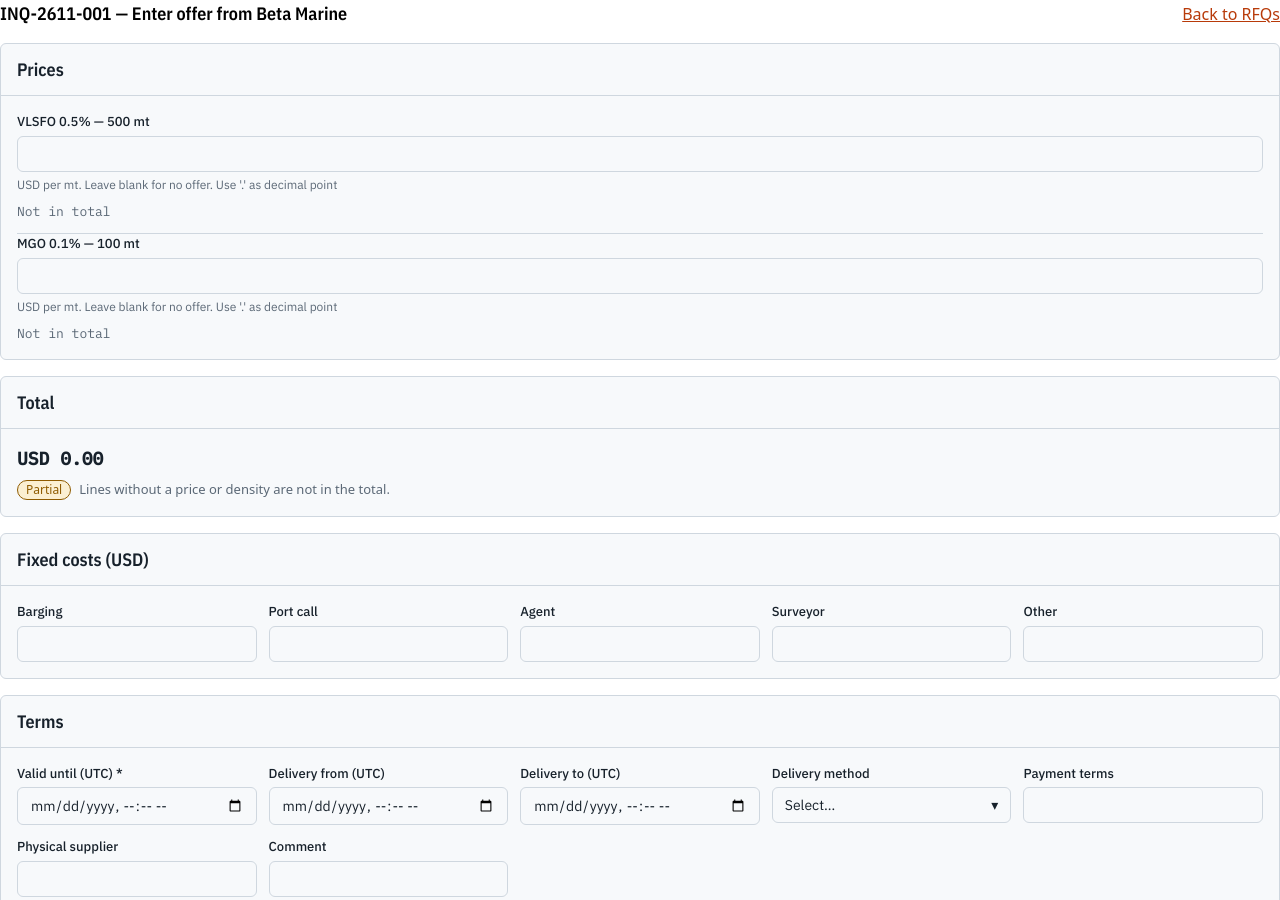
Test case: OfferEntry › [B4-R12] live line costs and total update, with a Partial note until every line is priced
The image size is (1280, 900).
Expected: the text "USD 0.00" is shown, left=17, top=447, right=103, bottom=470
Expected: the text "Partial" is shown, left=17, top=480, right=71, bottom=500
In the field labelled "VLSFO 0.5% — 500 mt": (640, 154) left=17, top=136, right=1263, bottom=172, type "612.345"
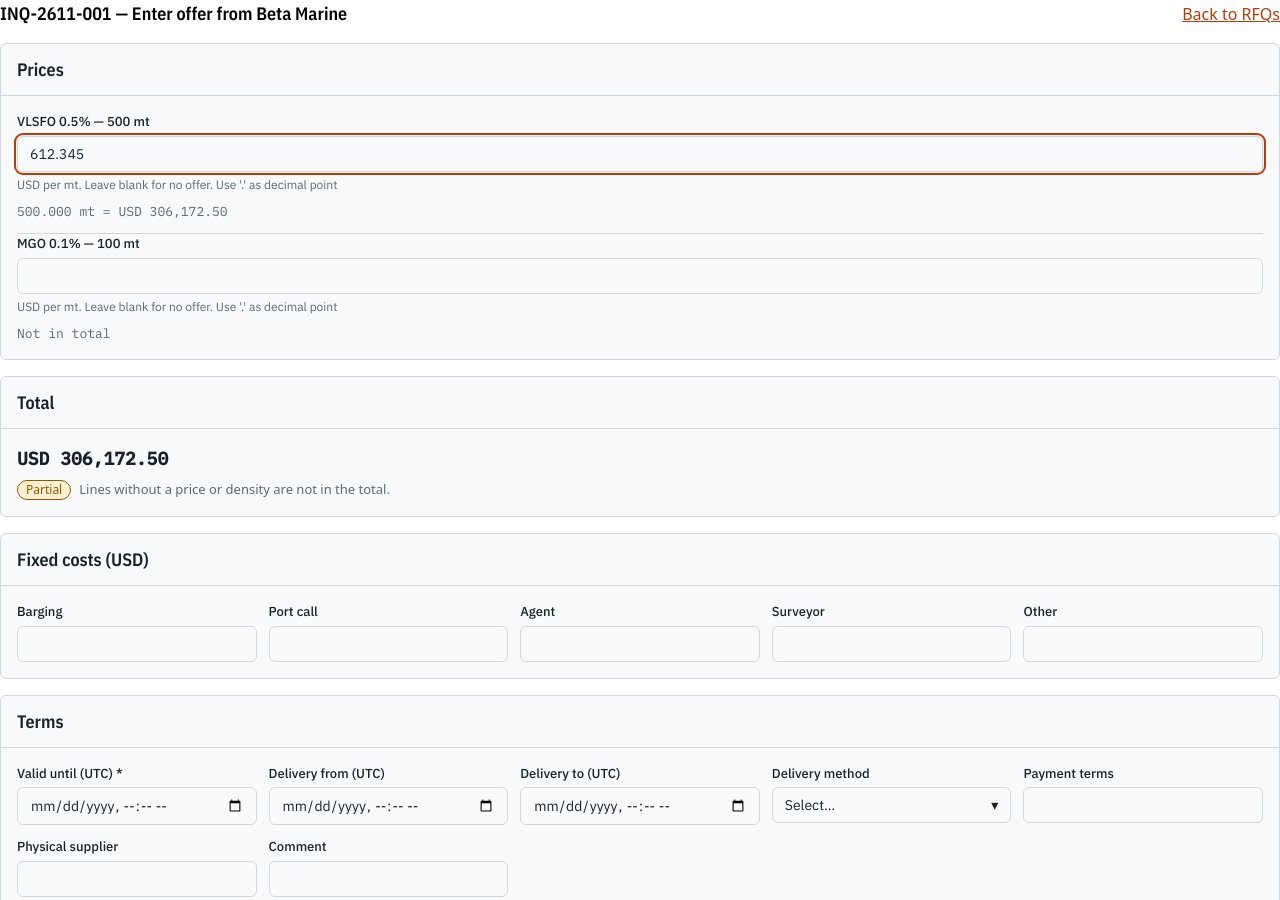
Expected: the text "Partial" is shown, left=17, top=480, right=71, bottom=500
Expected: the text "500.000 mt = USD 306,172.50" is shown, left=17, top=202, right=228, bottom=220
Expected: the text "USD 306,172.50" is shown, left=17, top=447, right=168, bottom=470
In the field labelled "MGO 0.1% — 100 mt": (640, 276) left=17, top=258, right=1263, bottom=294, type "845.5"
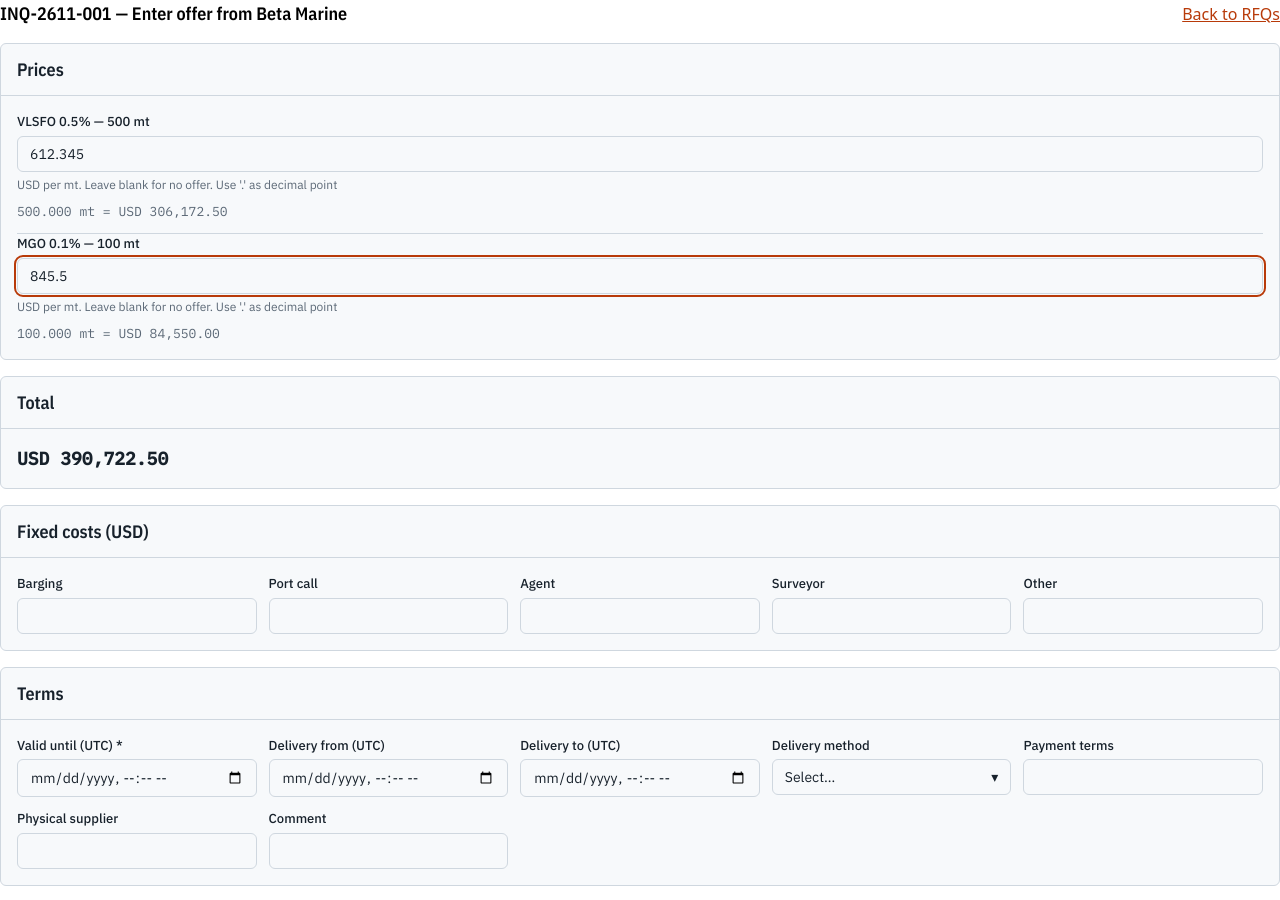
In the field labelled "Barging": (137, 616) left=17, top=598, right=257, bottom=634, type "1200"
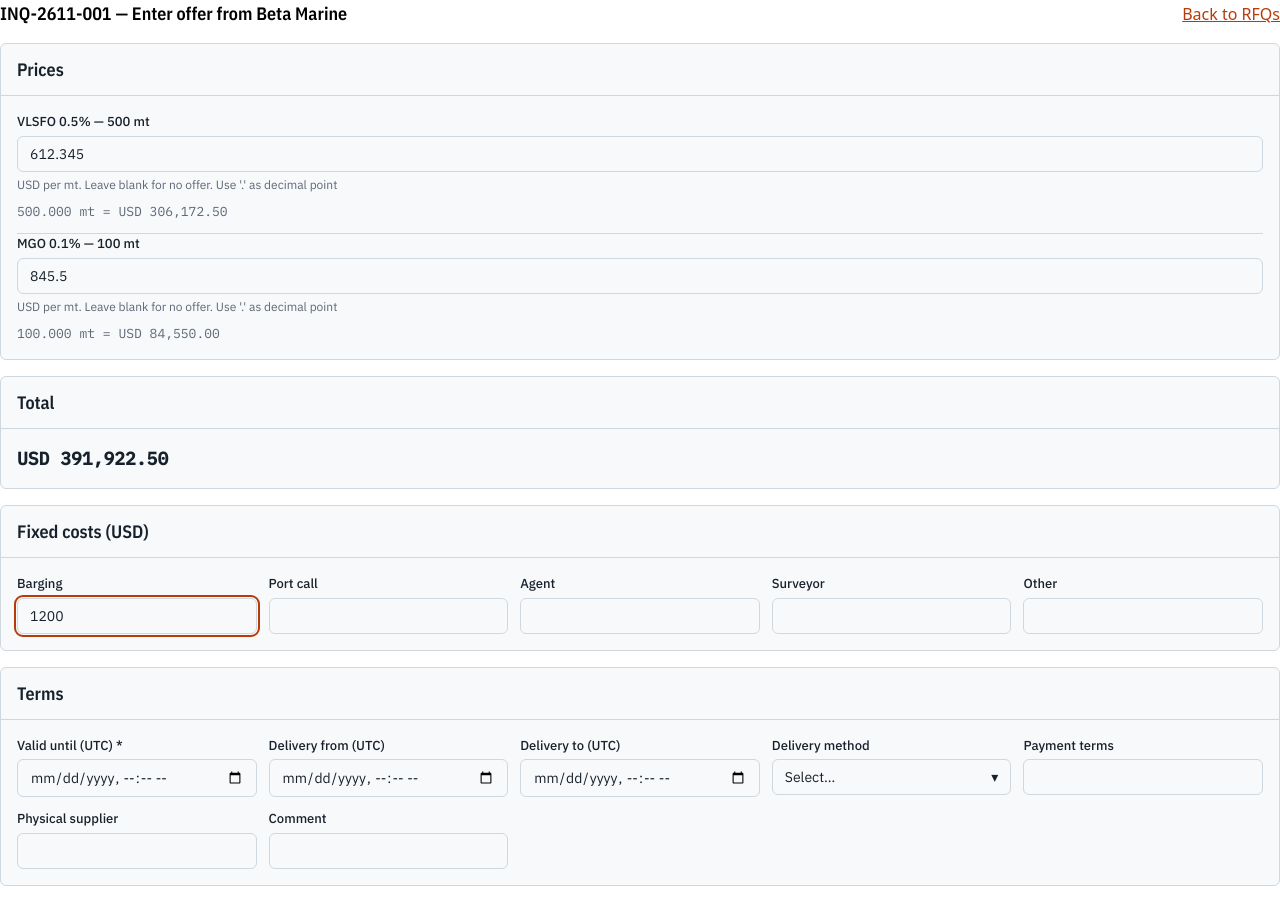
Expected: the text "Partial" is not shown
Expected: the text "USD 391,922.50" is shown, left=17, top=447, right=168, bottom=470
